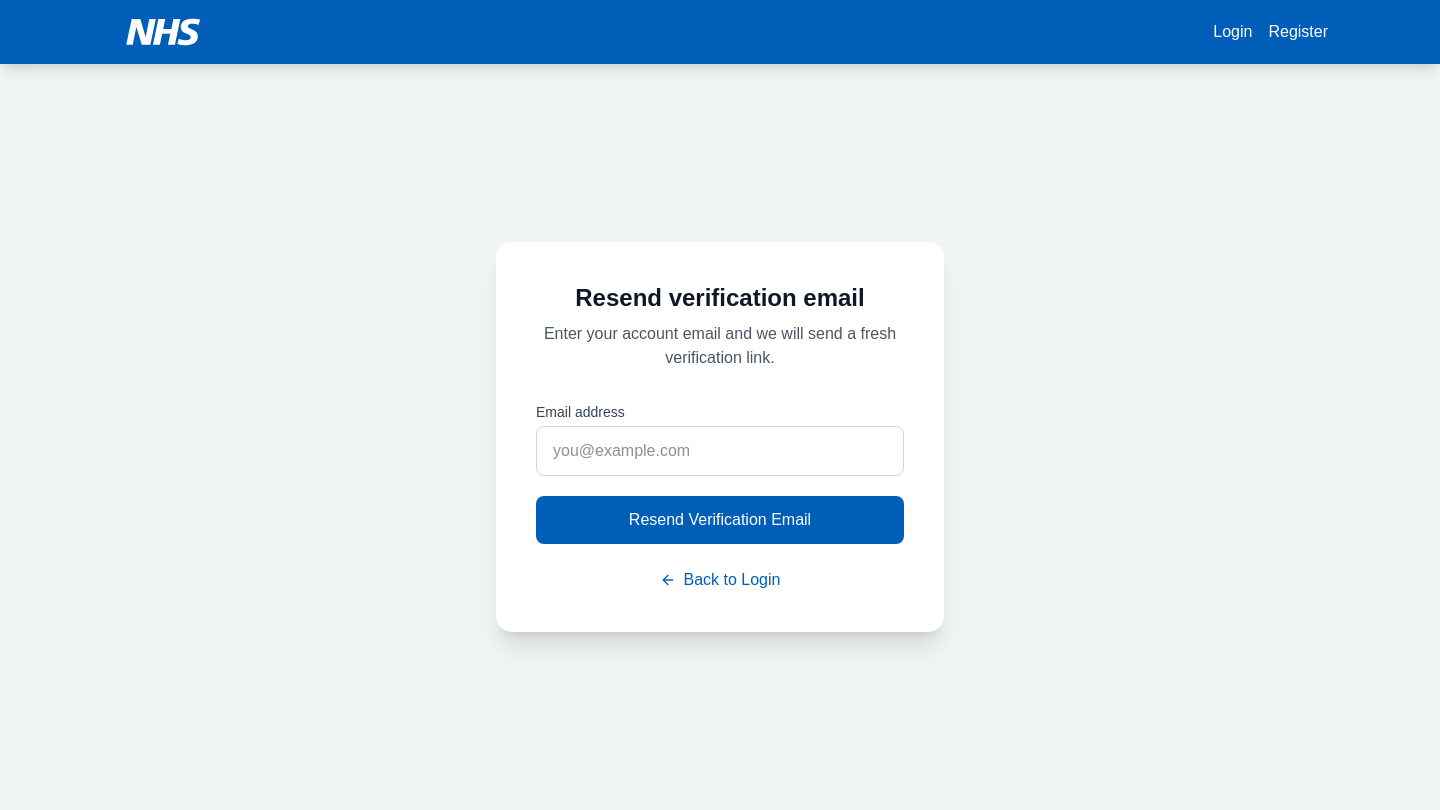
Test: ResendVerificationPage › shows error on API failure
The width and height of the screenshot is (1440, 810).
Step 1. Type "test@example.com" into the field labelled "Email address" → (720, 451), box [536,426,904,476]
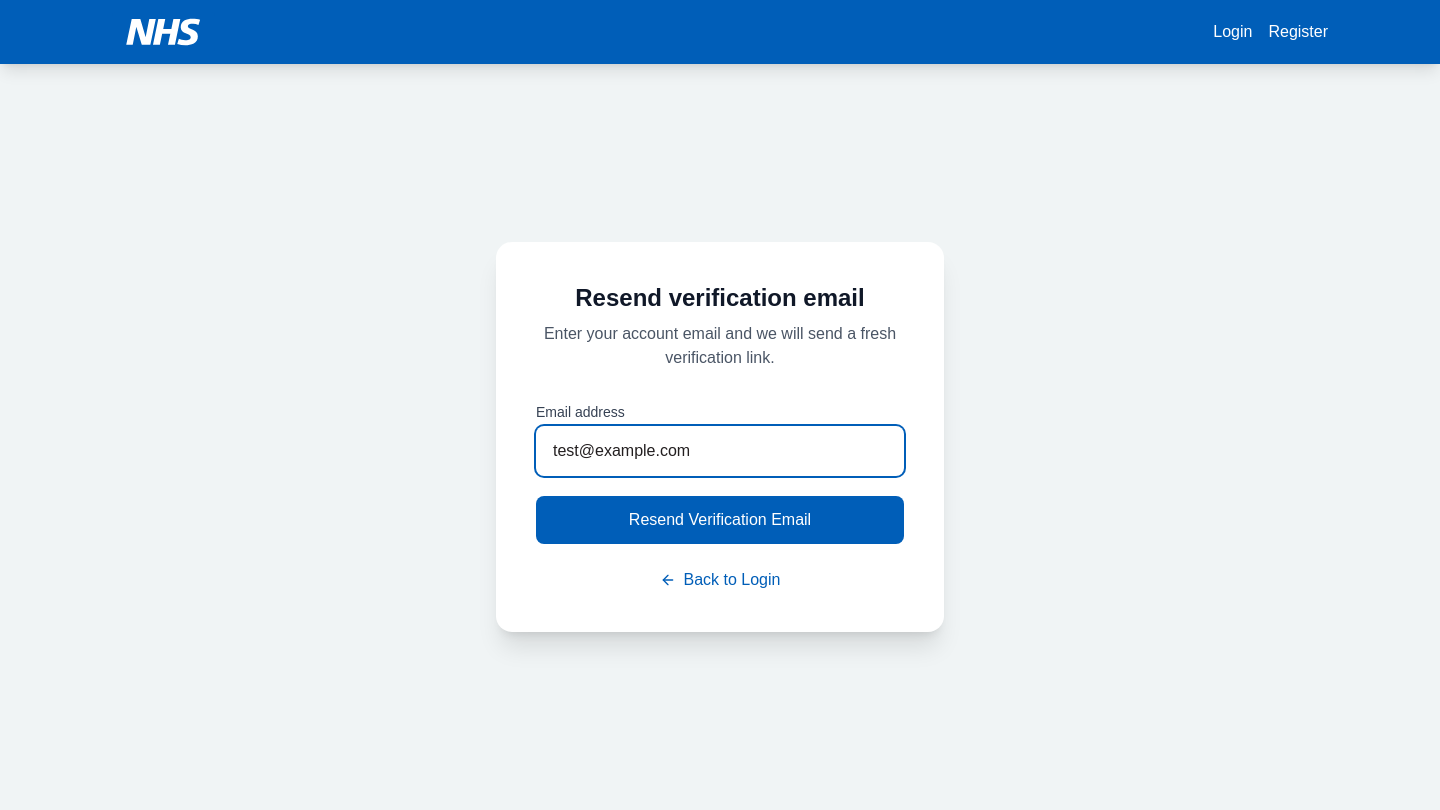
Step 2. Click the button "Resend Verification Email" → (720, 520), box [536,496,904,544]
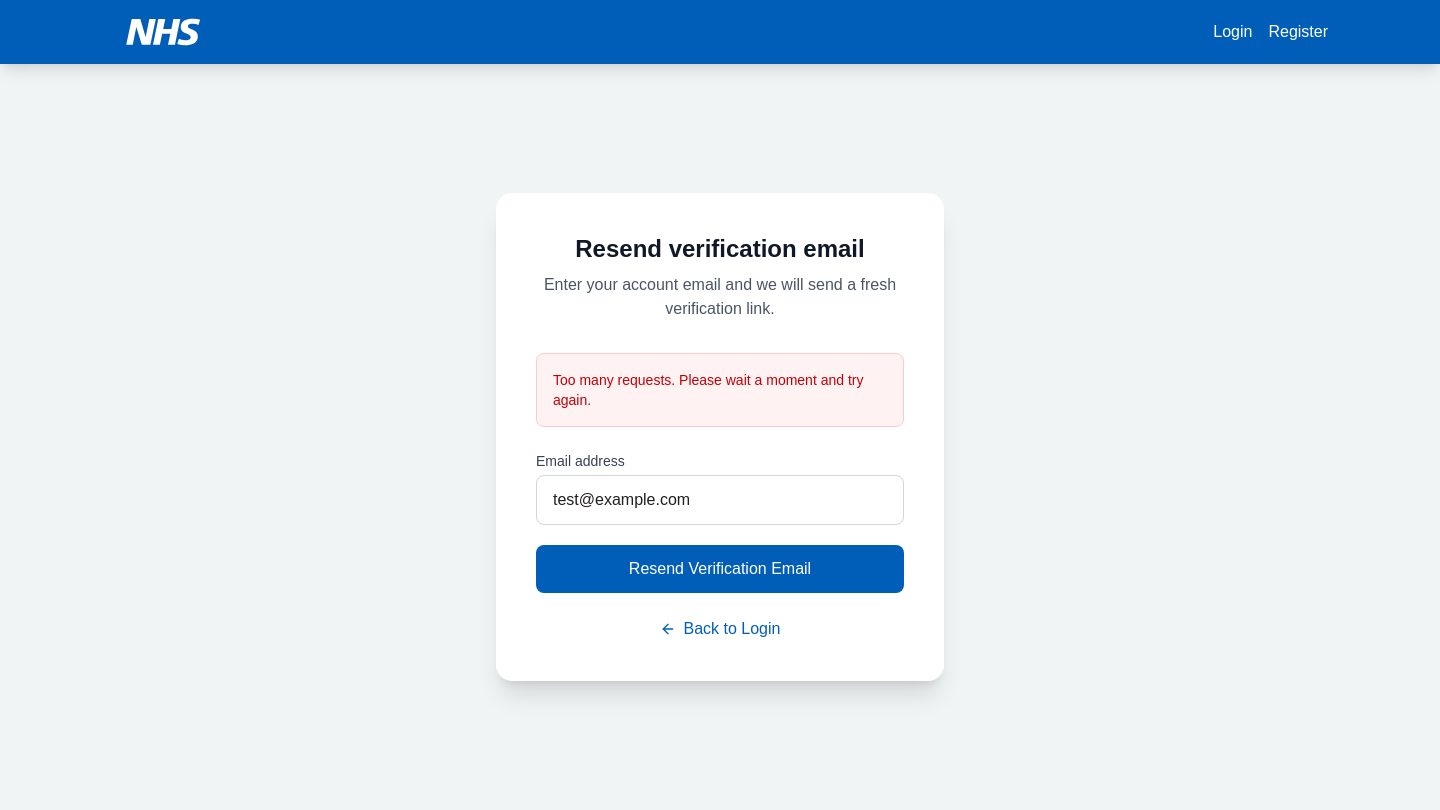
Result: the text "Too many requests. Please wait a moment and try again." is shown at [536,353,904,427]
